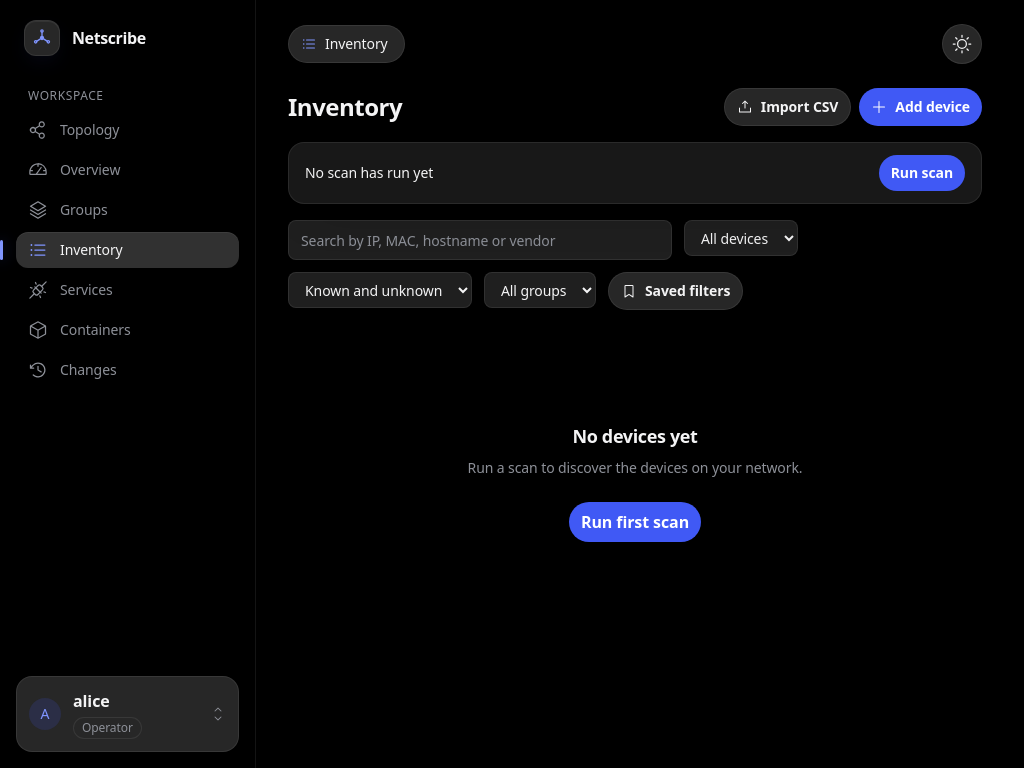
Inventory › offers a first scan to a role that may run scans, and reports a scan in progress
What coordinates should you click on to do the following:
click the button "Run first scan"
I would click on:
 (635, 522)
Its box is [569,502,701,542].
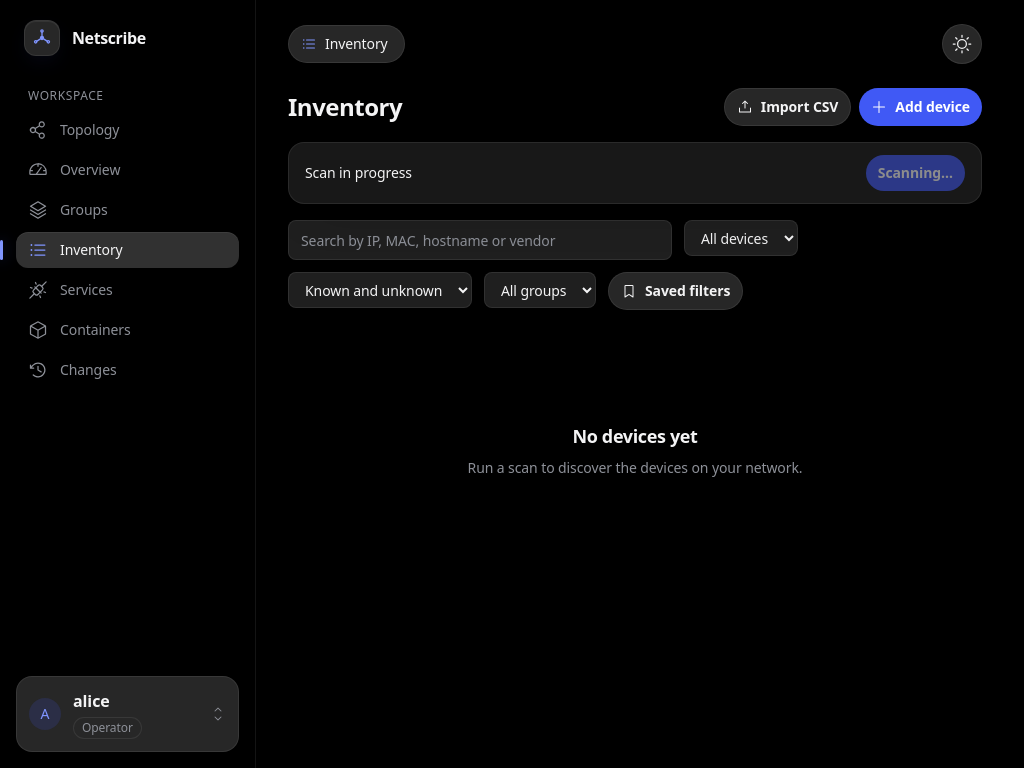
Expected: the text "Scan in progress" is shown, [305,163,412,182]
